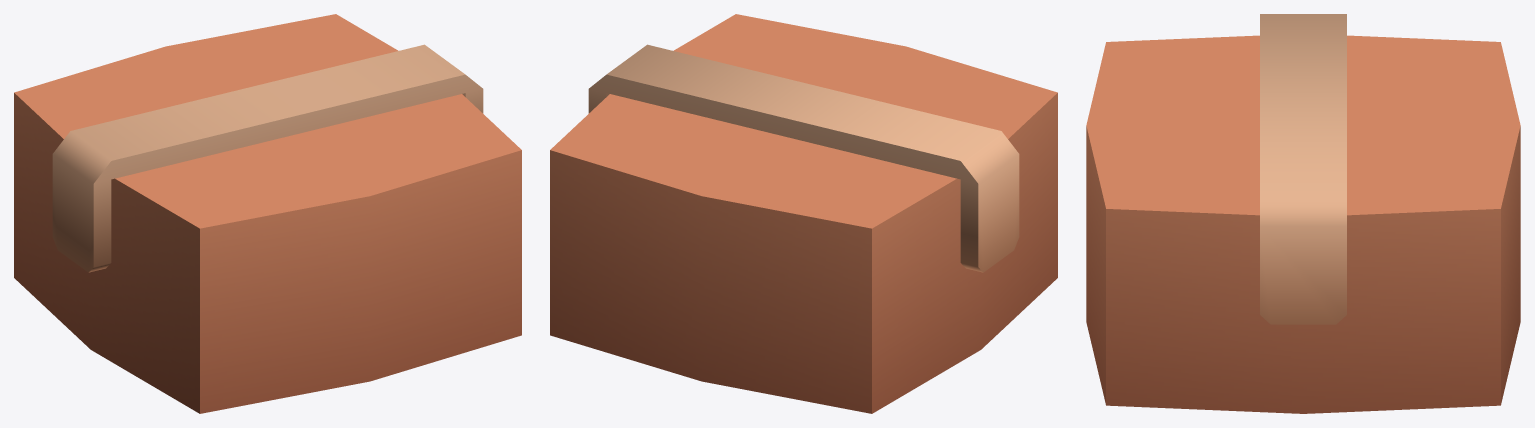
The model's file is F_box-large.obj.
3 renders of one model, left to right at view 1: azimuth 30°, elevation 25°; view 2: azimuth 150°, elevation 25°; view 3: azimuth 270°, elevation 25°, orthographic. The views are drawn at different scales.
Parts seen in each view (by area): view 1: box-large; view 2: box-large; view 3: box-large.
Part boxes in pixels (left/top/right/bottom): box-large: left=14, top=14, right=521, bottom=413; box-large: left=550, top=14, right=1057, bottom=413; box-large: left=1086, top=14, right=1520, bottom=413.
Size of the model in its own units: 1.1 by 0.55 by 1.
Materials: 1 (1 with a texture image).
